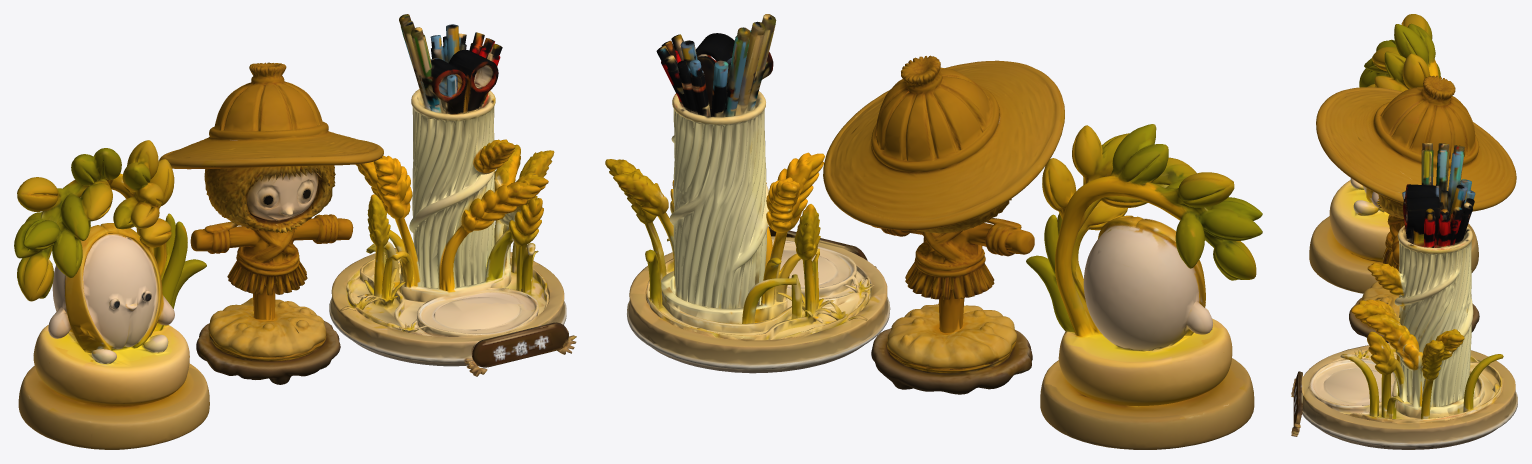
File: award-03.glb
3 renders of one model, left to right at view 1: azimuth 30°, elevation 25°; view 2: azimuth 150°, elevation 25°; view 3: azimuth 270°, elevation 25°, orthographic. The views are drawn at different scales.
Parts seen in each view (by area): view 1: node_0; view 2: node_0; view 3: node_0.
Part boxes in pixels (x1,y1,x2,y2): node_0: (14,14,576,449); node_0: (605,14,1262,449); node_0: (1291,14,1517,449).
Bounding box in the file's own units: 1.14 × 0.5598 × 0.4404.
1 material, 1 textured.
